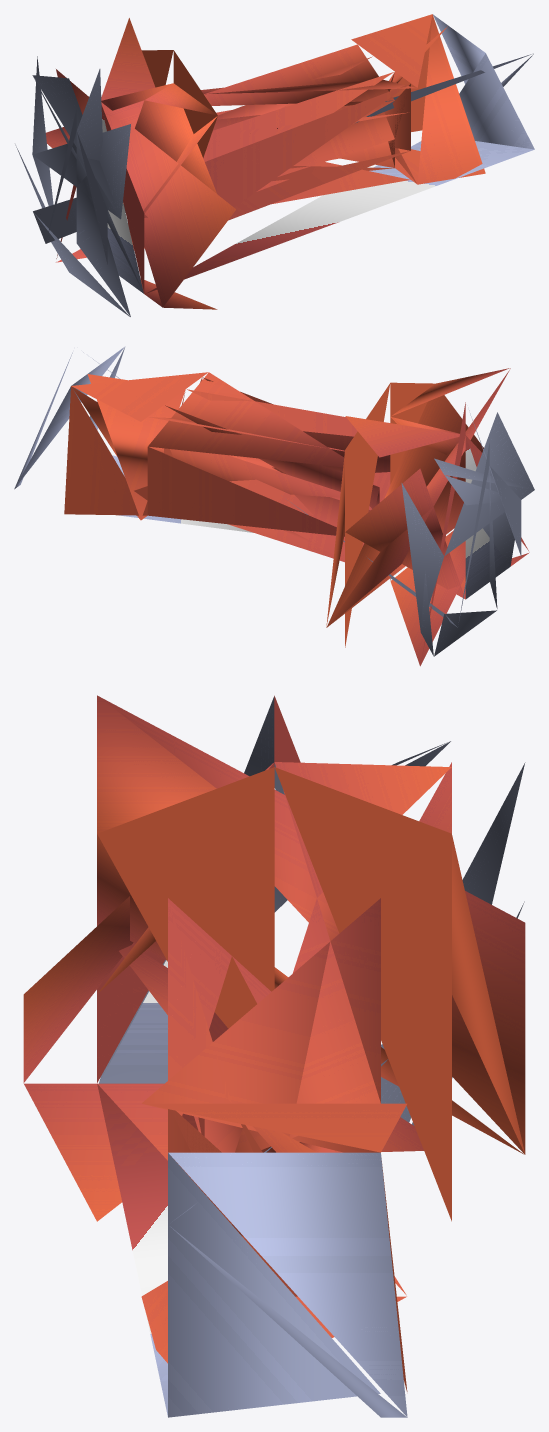
File: k_buoy-DtEmNUCd.glb
3 renders of one model, top to bottom at view 1: azimuth 30°, elevation 25°; view 2: azimuth 150°, elevation 25°; view 3: azimuth 270°, elevation 25°, orthographic. The views are drawn at different scales.
Parts seen in each view (by area): view 1: buoy; view 2: buoy; view 3: buoy.
Part boxes in pixels (box(x1,y1,x2,y2)): buoy: box(15, 14, 534, 316); buoy: box(14, 346, 534, 666); buoy: box(23, 695, 525, 1417).
Size of the model in its own units: 1.84 by 0.9282 by 0.9282.
1 material, 1 textured.
